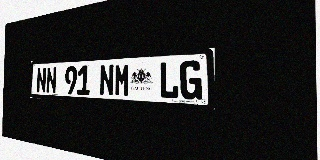1: (77, 65, 90, 95)
9: (65, 66, 77, 95)
G: (180, 60, 202, 100)
L: (159, 61, 179, 99)
M: (114, 63, 130, 97)
N: (99, 64, 114, 96), (46, 67, 57, 94), (36, 67, 46, 93)
